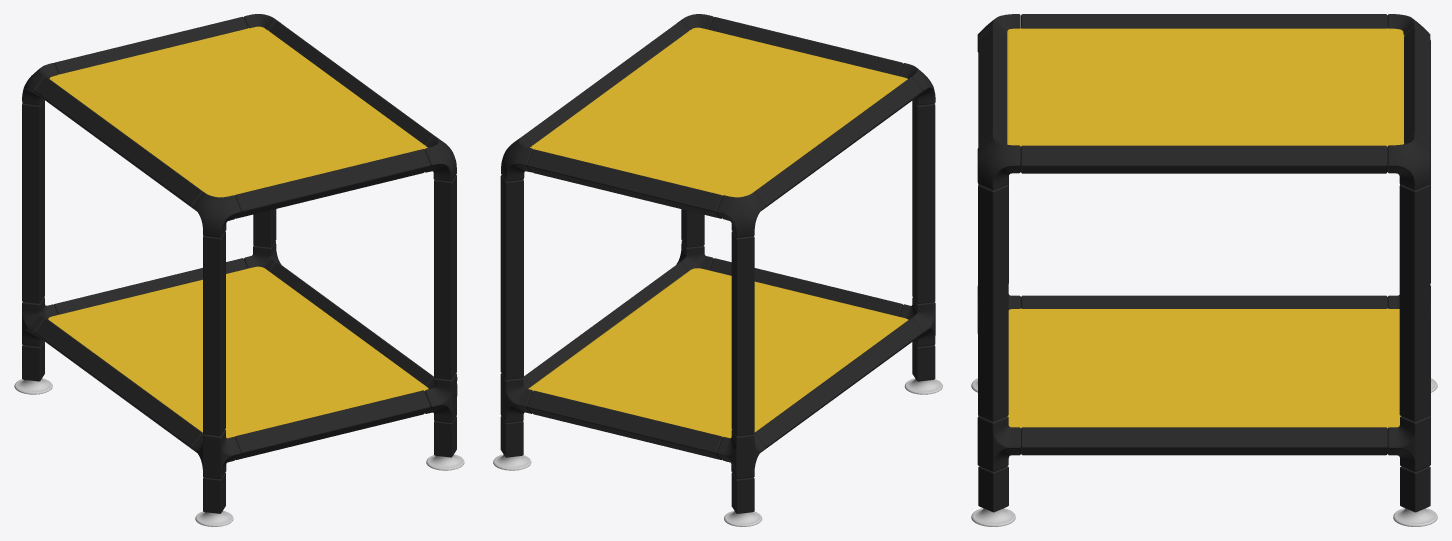
3 views of the same model, side by side, from view 1: azimuth 30°, elevation 25°; view 2: azimuth 150°, elevation 25°; view 3: azimuth 270°, elevation 25° (orthographic). The views are drawn at different scales.
Visible parts, largest first — view 1: 229x329x229; view 2: 229x329x229; view 3: 229x329x229.
Part boxes in pixels (bbox=[...]): 229x329x229: bbox=[14, 14, 464, 526]; 229x329x229: bbox=[493, 14, 942, 526]; 229x329x229: bbox=[971, 14, 1437, 526].
Size of the model in its own units: 0.3189 by 0.3682 by 0.4182.
